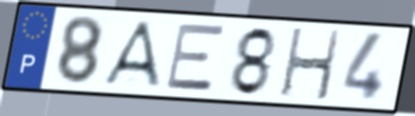4: (340, 29, 388, 106)
8: (52, 13, 107, 88), (228, 23, 279, 99)
A: (99, 19, 164, 90)
E: (164, 23, 227, 93)
H: (278, 26, 343, 102)
